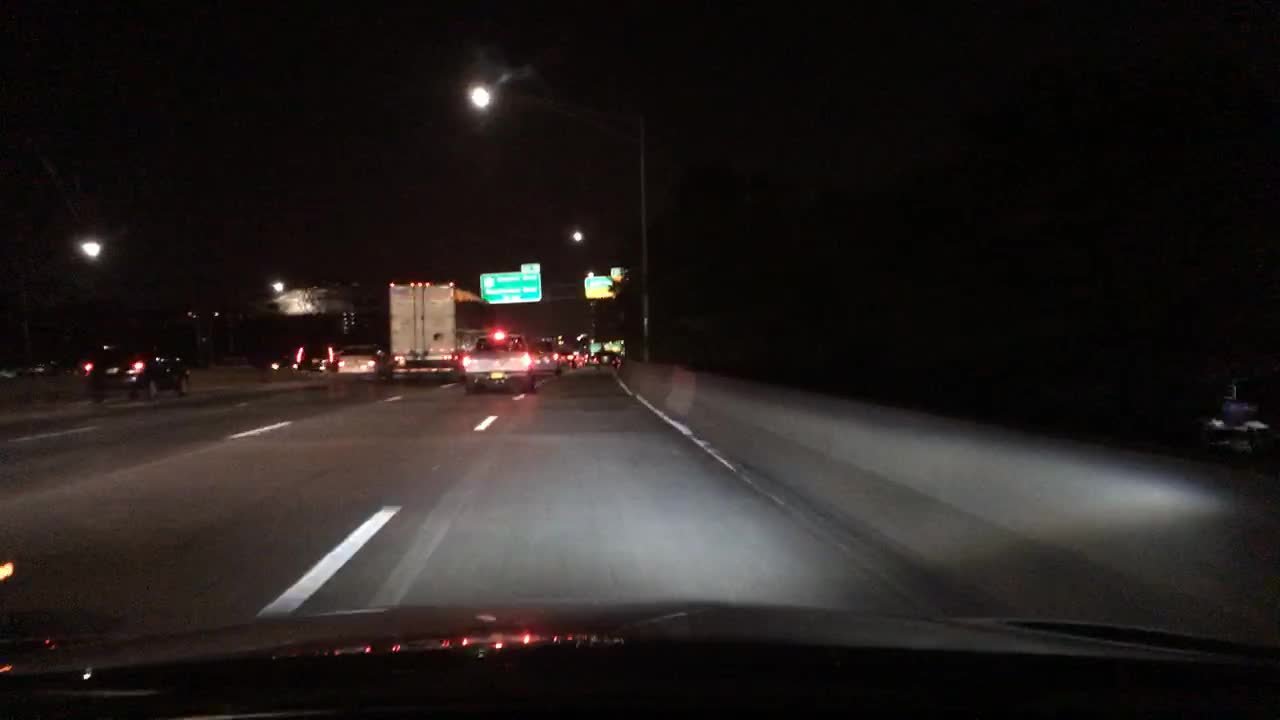car: (82, 342, 189, 403), (332, 342, 386, 374), (525, 337, 560, 378), (266, 344, 305, 371), (302, 341, 337, 371), (13, 356, 64, 376), (60, 356, 96, 376), (555, 349, 575, 369), (584, 354, 602, 368), (570, 354, 585, 368)
traffic sign: (477, 273, 538, 305), (584, 275, 621, 300), (600, 341, 624, 353), (519, 261, 540, 273), (607, 265, 629, 275), (585, 341, 600, 353)
truck: (386, 278, 496, 383), (461, 328, 536, 393)
